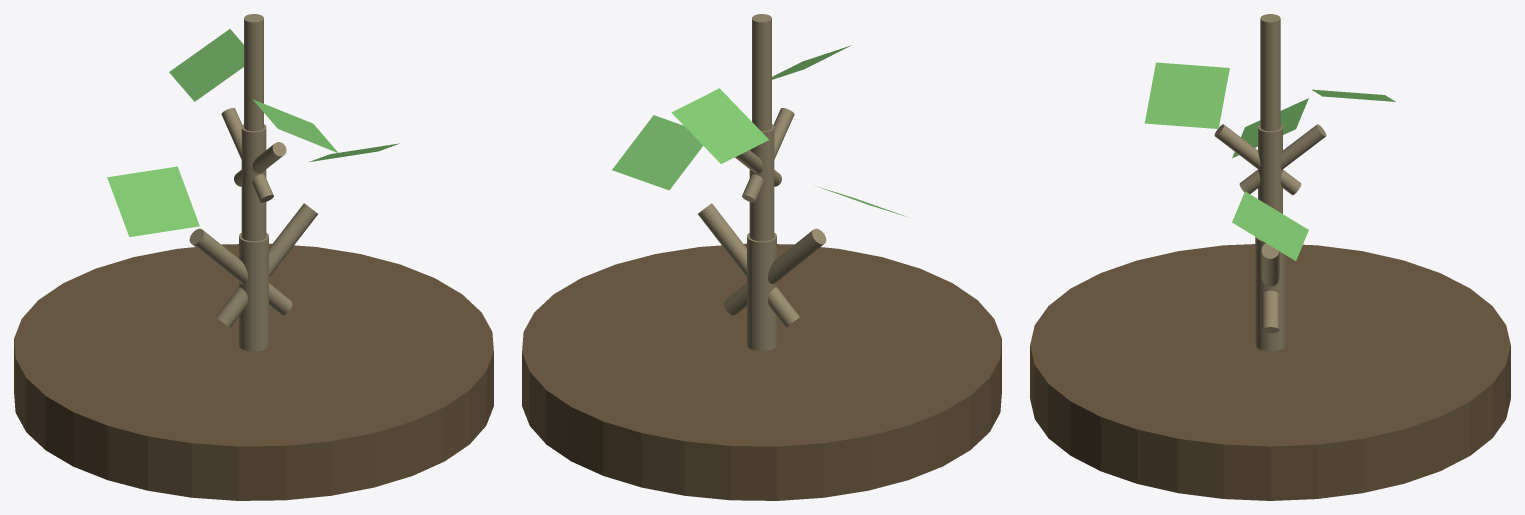
File: plant_stage_2_young_plant.glb
3 renders of one model, left to right at view 1: azimuth 30°, elevation 25°; view 2: azimuth 150°, elevation 25°; view 3: azimuth 270°, elevation 25°, orthographic.
Parts seen in each view (by area): view 1: Cylinder.007, Plane.001, Cylinder, Plane.002, Cylinder.003, Cylinder.006, Cylinder.001, Cylinder.002, Plane.003, Cylinder.004, Cylinder.005; view 2: Cylinder.007, Plane, Plane.002, Cylinder, Cylinder.006, Cylinder.003, Cylinder.001, Cylinder.002, Cylinder.005; view 3: Cylinder.007, Plane.003, Plane, Cylinder.006, Cylinder, Cylinder.003, Cylinder.005, Cylinder.004, Plane.001, Cylinder.002, Cylinder.001.
Part boxes in pixels (bbox=[...]): Cylinder.007: bbox=[14, 243, 493, 500]; Plane.001: bbox=[107, 166, 199, 236]; Cylinder: bbox=[239, 233, 268, 351]; Plane.002: bbox=[169, 29, 243, 101]; Cylinder.003: bbox=[241, 124, 266, 241]; Cylinder.006: bbox=[244, 14, 263, 131]; Cylinder.001: bbox=[216, 203, 317, 327]; Cylinder.002: bbox=[189, 228, 292, 315]; Plane.003: bbox=[252, 99, 337, 152]; Cylinder.004: bbox=[221, 108, 273, 202]; Cylinder.005: bbox=[234, 142, 286, 186]; Cylinder.007: bbox=[522, 243, 1001, 500]; Plane: bbox=[612, 115, 702, 190]; Plane.002: bbox=[671, 88, 768, 163]; Cylinder: bbox=[747, 233, 776, 351]; Cylinder.006: bbox=[752, 14, 771, 131]; Cylinder.003: bbox=[749, 124, 774, 241]; Cylinder.001: bbox=[698, 203, 799, 327]; Cylinder.002: bbox=[723, 228, 826, 315]; Cylinder.005: bbox=[742, 108, 794, 202]; Cylinder.007: bbox=[1030, 244, 1510, 500]; Plane.003: bbox=[1144, 62, 1229, 128]; Plane: bbox=[1232, 191, 1308, 260]; Cylinder.006: bbox=[1260, 14, 1280, 131]; Cylinder: bbox=[1255, 237, 1285, 351]; Cylinder.003: bbox=[1258, 124, 1282, 213]; Cylinder.005: bbox=[1214, 124, 1301, 195]; Cylinder.004: bbox=[1239, 124, 1326, 193]; Plane.001: bbox=[1232, 98, 1308, 158]; Cylinder.002: bbox=[1261, 290, 1279, 333]; Cylinder.001: bbox=[1261, 243, 1279, 286].
Bounding box in the file's own units: 0.16 × 0.14 × 0.16.
